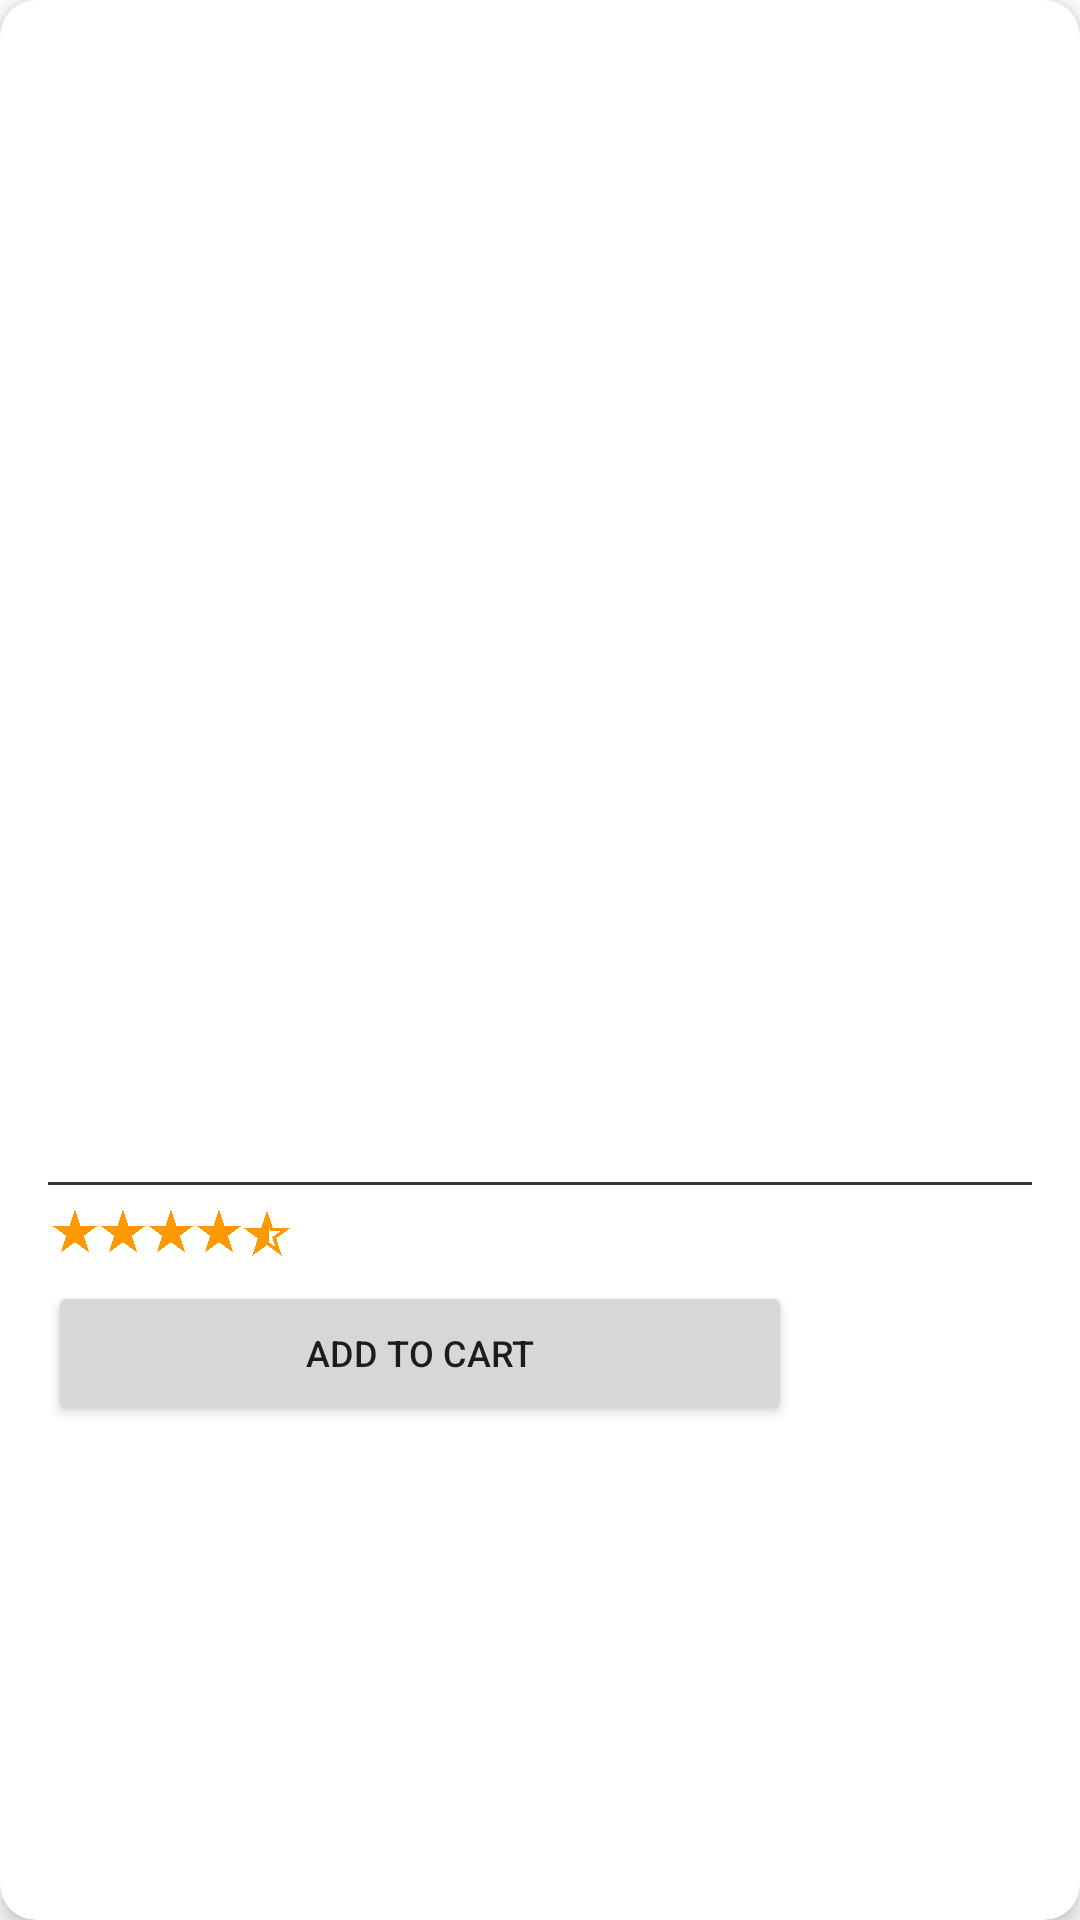

Named icons in this screenshot (1080 × 1920) and their centers, (x=x, y=y):
star: (x=75, y=1231), (x=123, y=1231), (x=171, y=1231), (x=219, y=1231)
star half: (x=267, y=1234)
